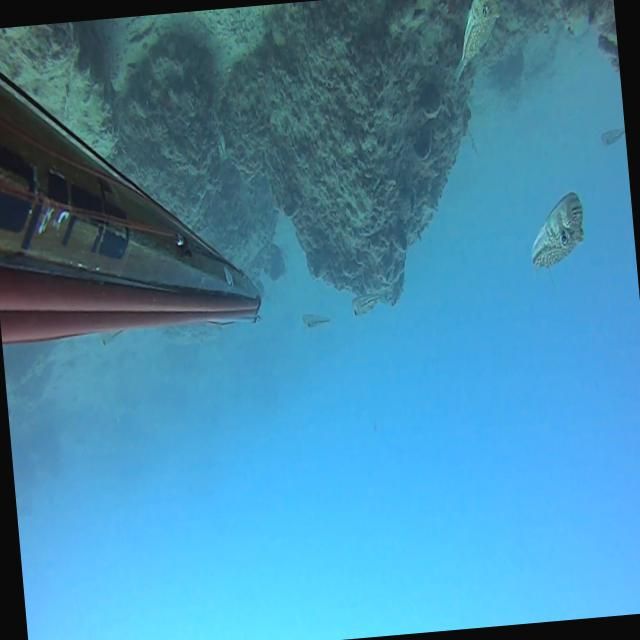Balon Baligi: (526, 190, 586, 279), (445, 0, 505, 82), (350, 292, 386, 315), (598, 126, 626, 147), (300, 312, 330, 329), (100, 329, 122, 346)
